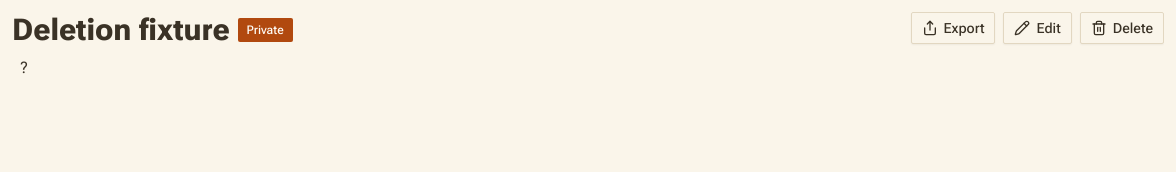
Scenario: collection deletion client › uses stable JSON without next-action, disables pending delete and navigates with refresh
The image size is (1176, 172).
Step 1. Click the button "Delete" → (1122, 28), box [1080,12,1164,44]
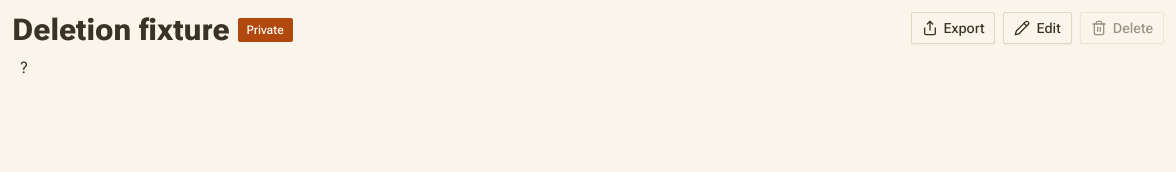
Now the button "Delete" is disabled, box [1080,12,1164,44]
